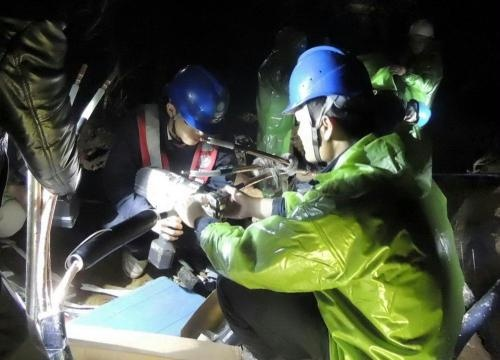blue: (285, 45, 376, 166), (164, 60, 231, 143)
white: (406, 15, 435, 55)
